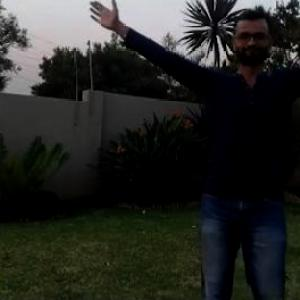takeoff: (102, 0, 299, 299)
